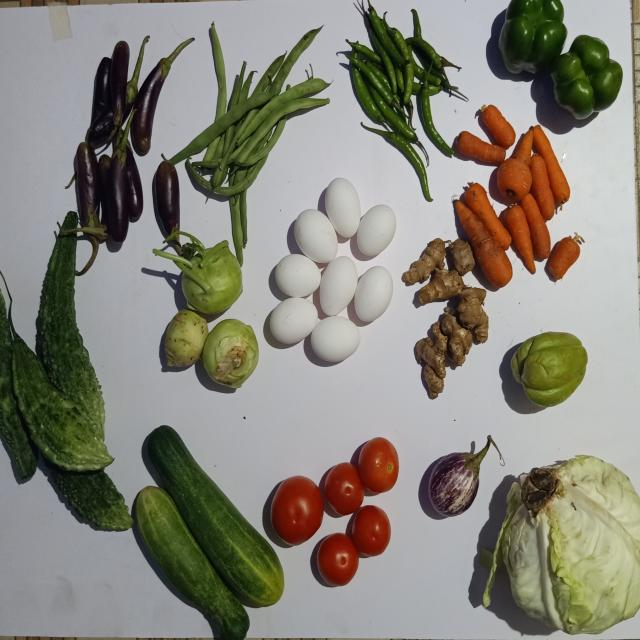Beans: (169, 91, 272, 164), (235, 97, 330, 163), (238, 77, 330, 143), (269, 25, 323, 95), (212, 155, 266, 195), (210, 21, 227, 119), (203, 136, 220, 160)
Bitter Gourd: (10, 322, 112, 471), (35, 232, 104, 440), (0, 290, 36, 481), (43, 458, 132, 531)
Brinjal: (130, 38, 193, 155), (106, 118, 130, 242), (75, 128, 99, 226), (154, 159, 179, 235), (109, 40, 129, 130)
Capsicum: (552, 34, 624, 118), (500, 0, 568, 72)
Carrot: (455, 199, 513, 287), (465, 182, 512, 249), (534, 124, 571, 202), (505, 204, 537, 273), (521, 192, 552, 258), (531, 154, 556, 220), (458, 130, 507, 163), (482, 104, 516, 148), (549, 236, 581, 279)
Chayote: (512, 332, 588, 406)
Egg: (295, 209, 338, 263), (311, 316, 361, 362), (320, 256, 358, 316), (270, 297, 318, 344), (355, 266, 394, 322), (325, 177, 361, 237), (357, 204, 397, 255), (275, 254, 321, 297)
Ginger: (416, 311, 474, 399), (402, 237, 446, 285), (449, 238, 476, 276)
Green Chilly: (361, 122, 433, 201), (370, 87, 418, 141), (369, 1, 407, 64), (422, 87, 455, 154), (352, 64, 385, 121), (394, 28, 415, 104)
Turnip: (152, 230, 242, 313), (201, 319, 259, 388), (164, 309, 208, 367)
